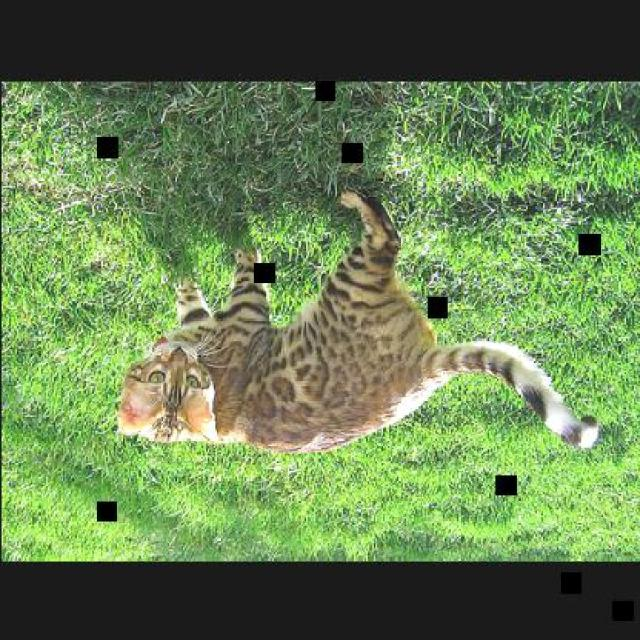unauthorized: (115, 186, 600, 454)
